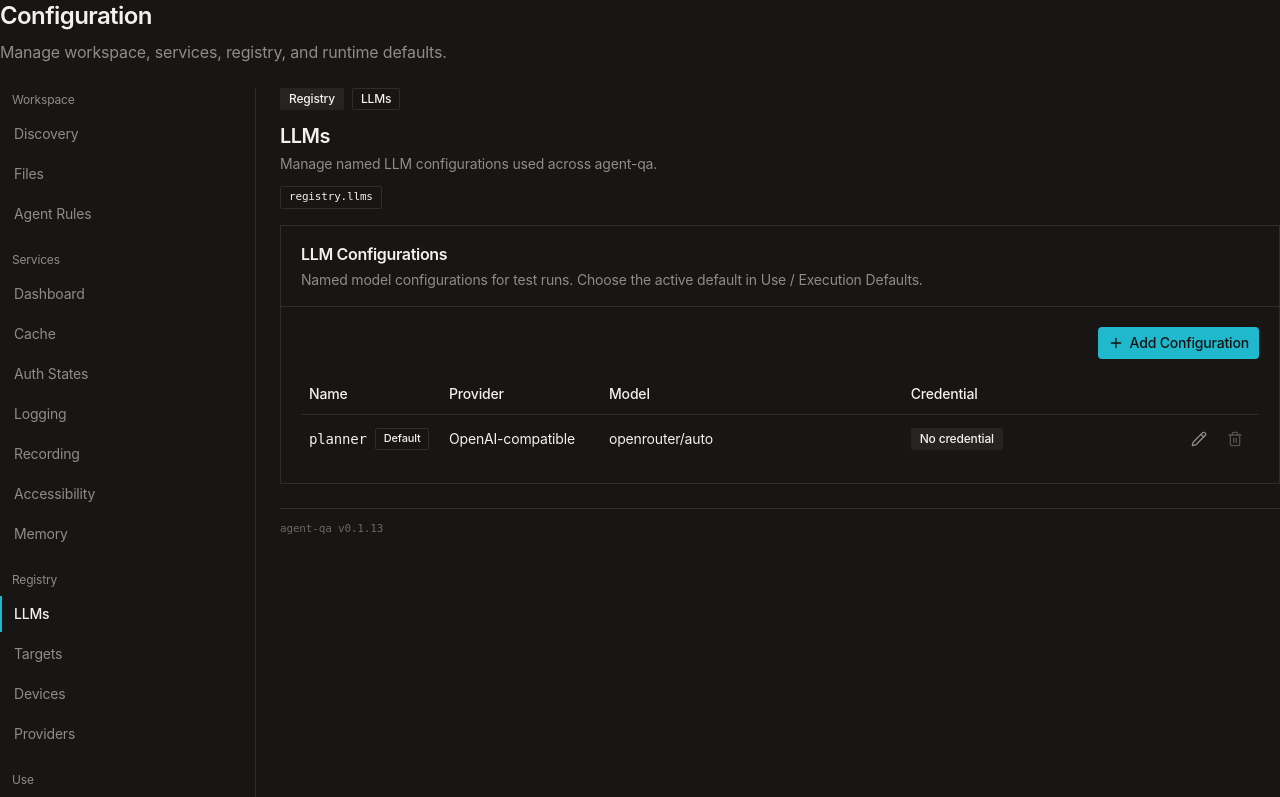
Test: ConfigPage schema-driven shell › requires Base URL before saving OpenAI-Compatible configs
Click the button titled "Edit configuration": {"x": 1199, "y": 439} [1183,423,1215,455]
(page scrolled)
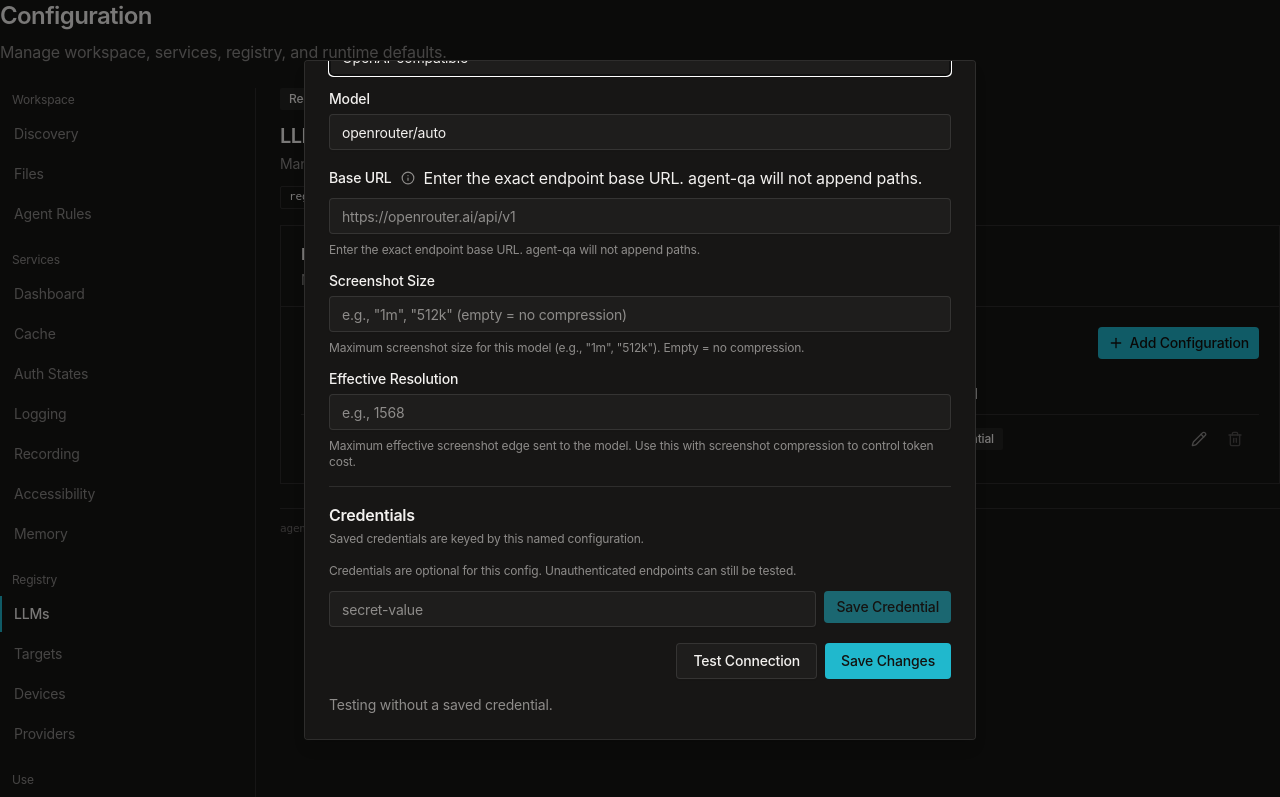
Click the button "Save Changes": {"x": 888, "y": 661} [825,643,951,679]
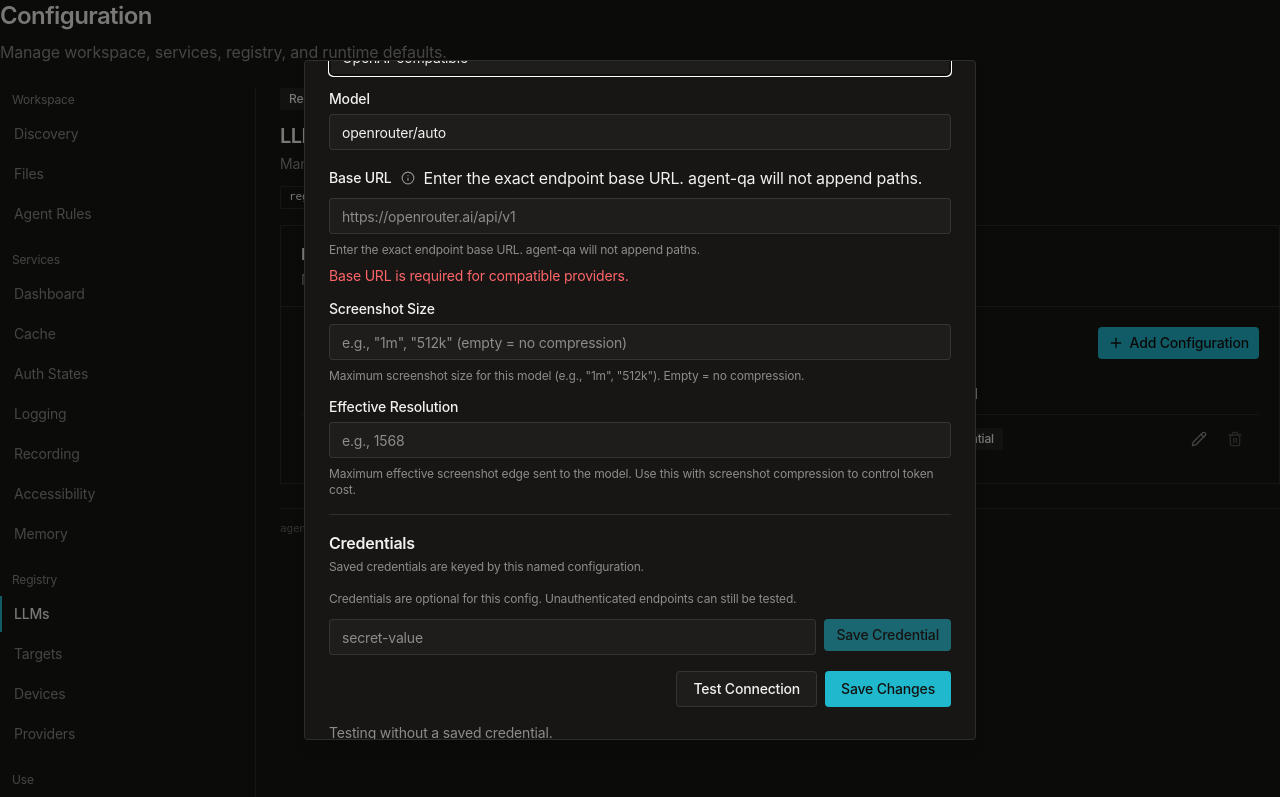
Check: the text "Base URL is required for compatible providers." is shown, box [329,267,629,284]
